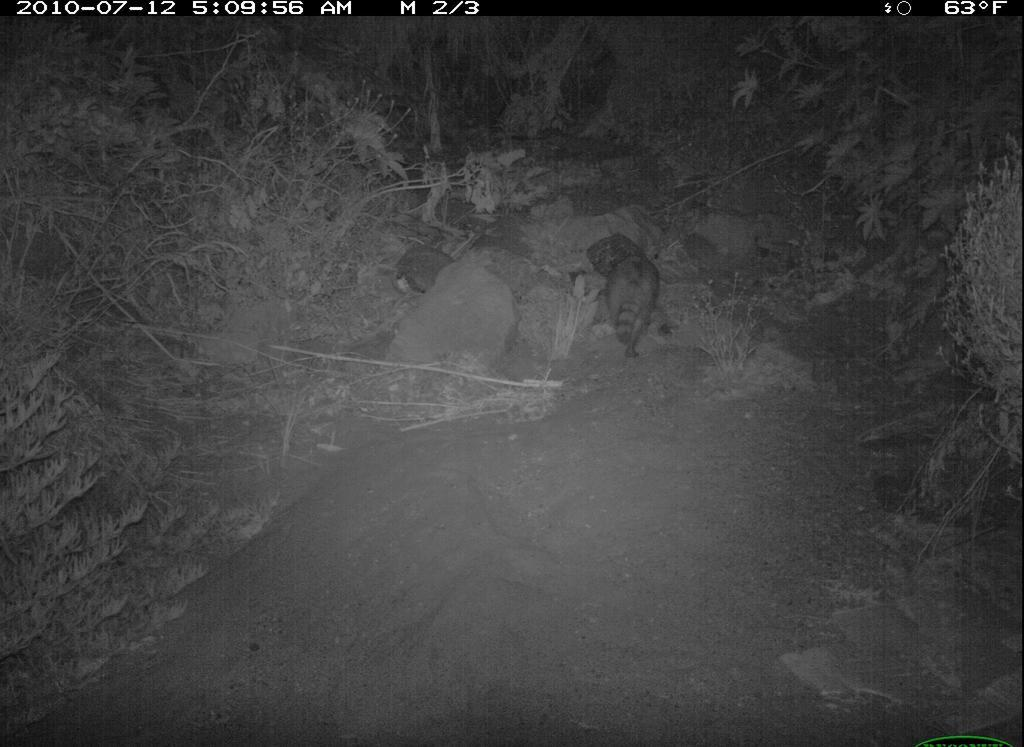raccoon: (597, 249, 670, 367)
